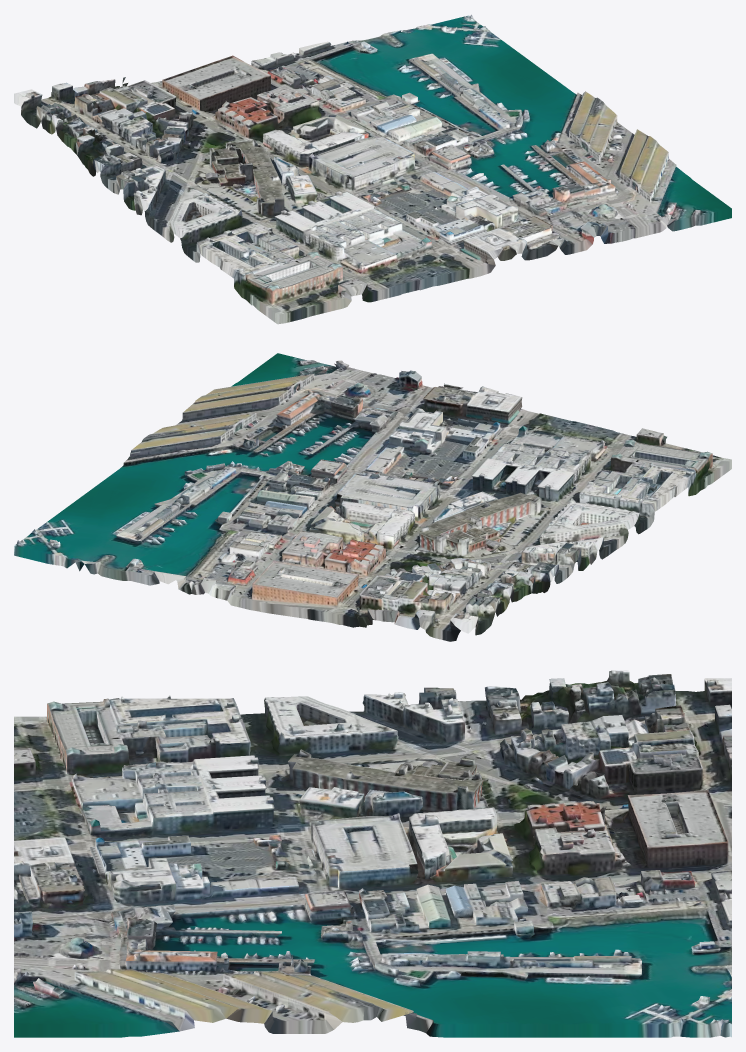
Rendered from z16-10482-25323-h0-yup-uvflip-v3-world.glb.
3 renders of one model, top to bottom at view 1: azimuth 30°, elevation 25°; view 2: azimuth 150°, elevation 25°; view 3: azimuth 270°, elevation 25°, orthographic. The views are drawn at different scales.
Size of the model in its own units: 483 by 48.64 by 485.
Materials: 1 (1 with a texture image).
